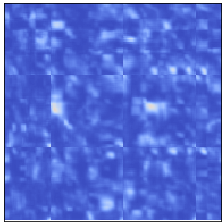action_path: (48, 75, 122, 149)
